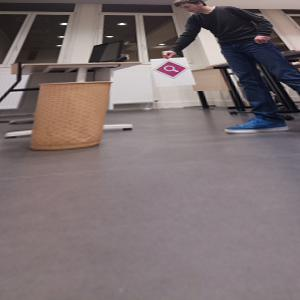medium: (27, 82, 112, 149)
